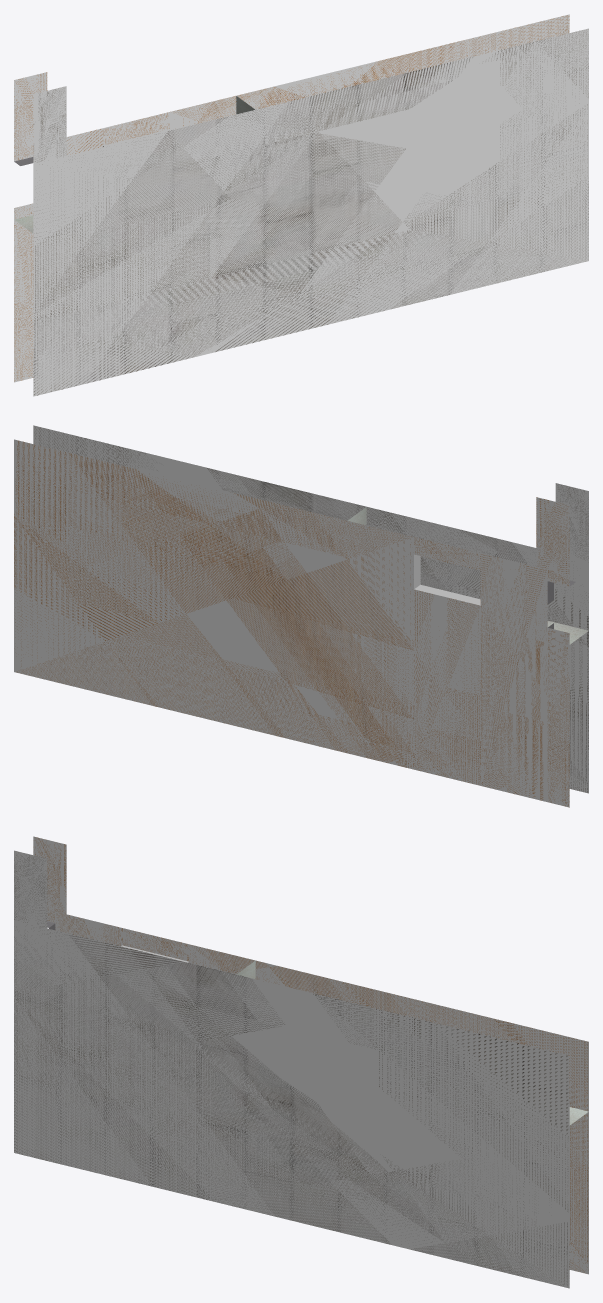
File: etage2.obj
3 renders of one model, top to bottom at view 1: azimuth 30°, elevation 25°; view 2: azimuth 150°, elevation 25°; view 3: azimuth 330°, elevation 25°, orthographic.
Size of the model in its own units: 50 by 26 by 3.
